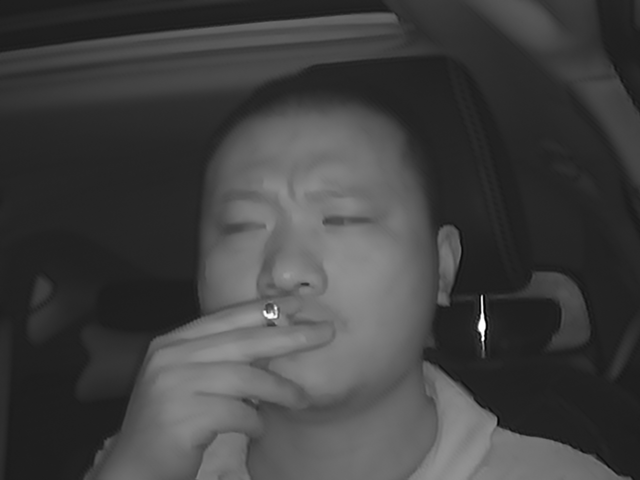hand: (153, 292, 330, 451)
